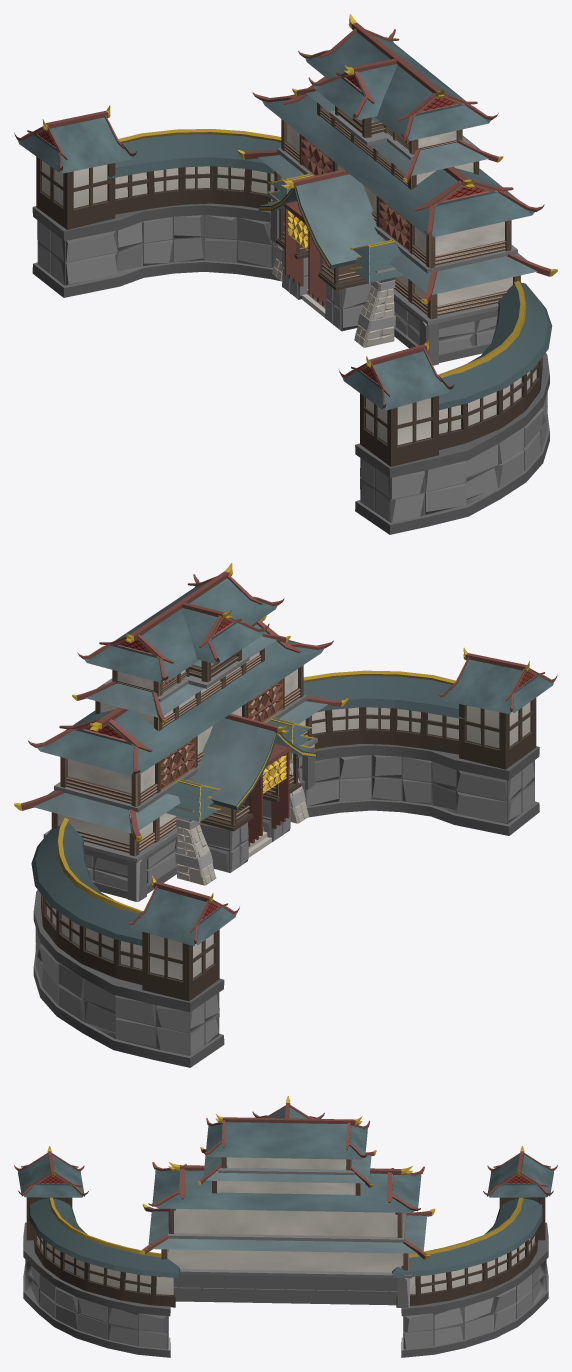
File: main2.fbx
3 renders of one model, top to bottom at view 1: azimuth 30°, elevation 25°; view 2: azimuth 150°, elevation 25°; view 3: azimuth 270°, elevation 25°, orthographic. The views are drawn at different scales.
Visible parts, largest first — view 1: polySurface943; view 2: polySurface943; view 3: polySurface943.
Boxes of the visible parts, x1,y1,x2,y2 form: polySurface943: [14, 14, 557, 534]; polySurface943: [14, 563, 557, 1067]; polySurface943: [14, 1096, 557, 1357].
Size of the model in its own units: 15.79 by 16.94 by 37.44.
